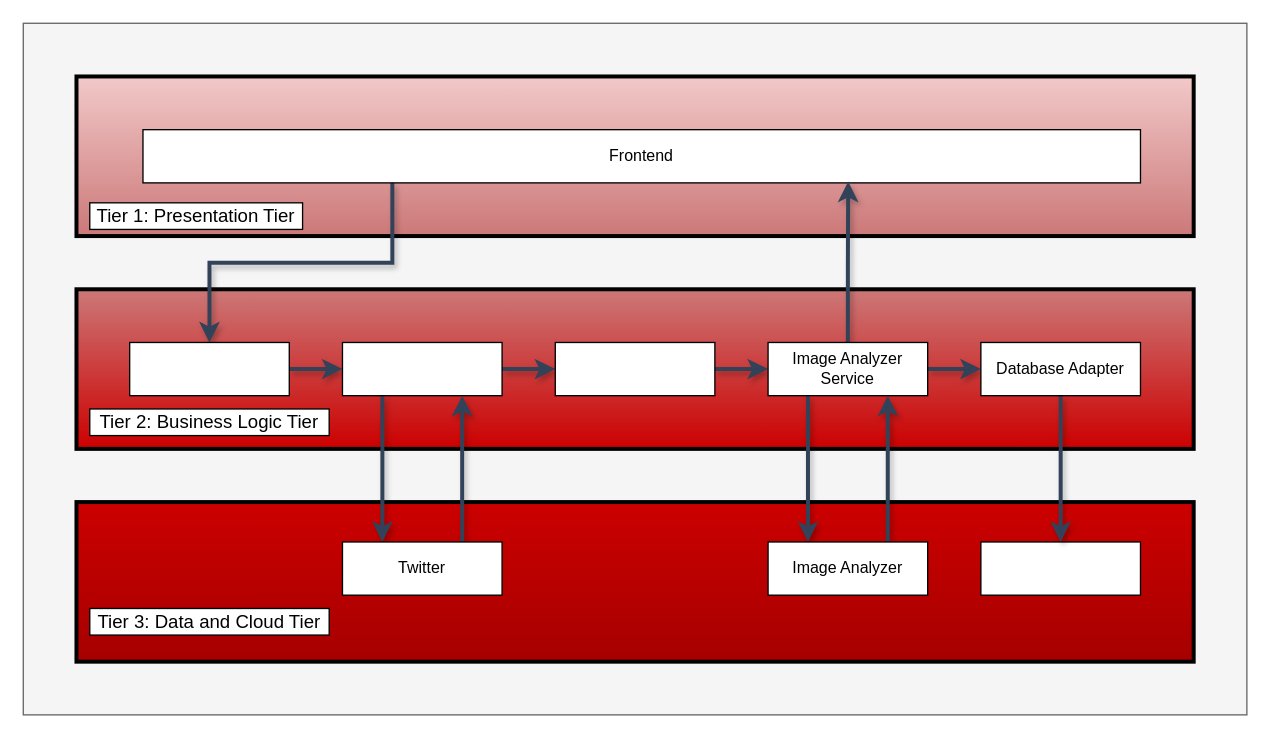
Some shapes in this 1270 by 738 pixel diagram are drawn without their labels. Here are the shapes that lost their labels. From the top down, the centre of each, then its label:
pixel 208 368: Stream Management Service
pixel 421 368: Twitter Streaming Service
pixel 634 368: Image Preprocessing Service
pixel 1060 568: Database
